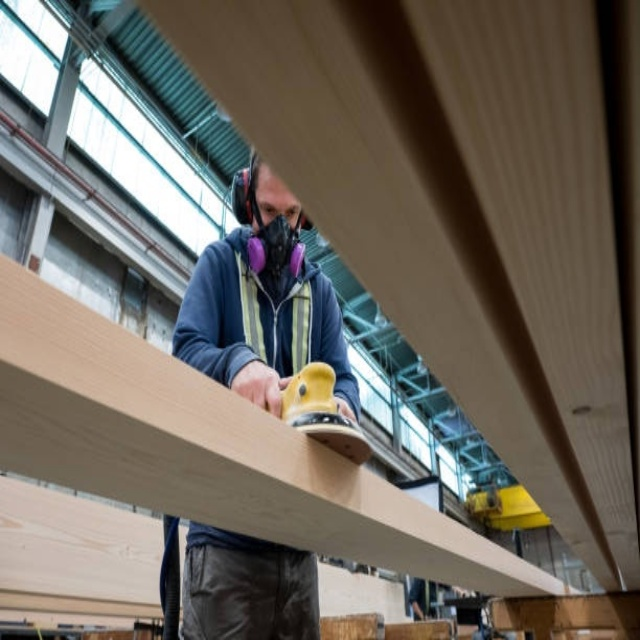Mascara: (250, 215, 307, 282)
Sin_gafas: (258, 187, 302, 221)
Sin_guantes: (230, 351, 290, 420)
